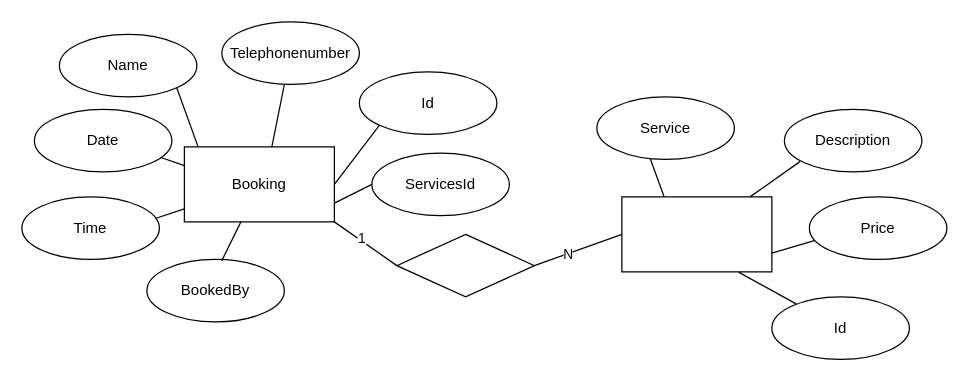
Some shapes in this 969 by 381 pixel diagram are drawn without their labels. Here are the shapes that lost their labels. From the top down, the box of each, then its label:
(621, 196, 772, 272): Services
(396, 233, 534, 297): Has
